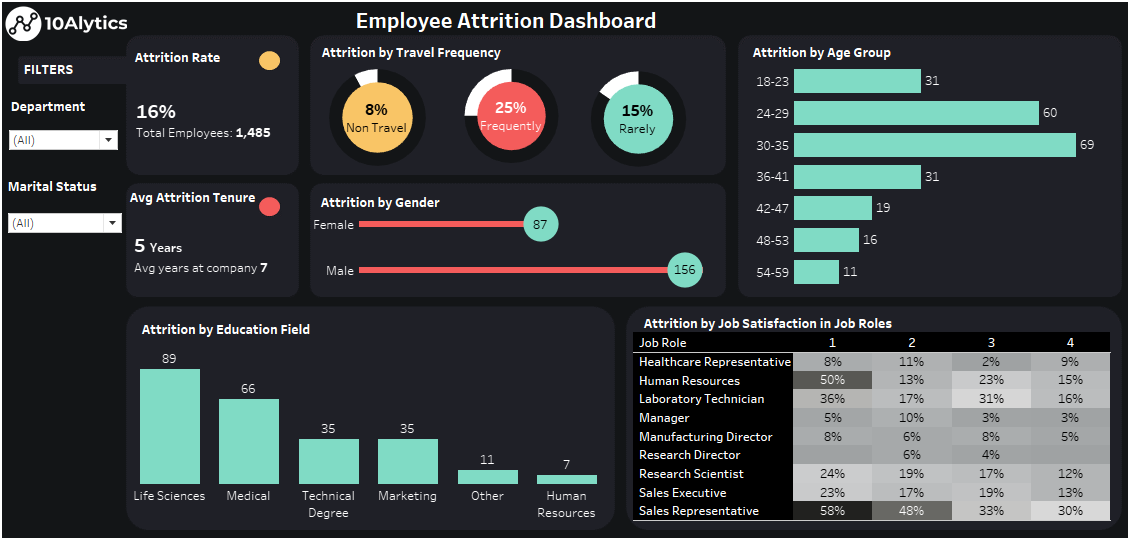

Layout of this report page (visuals, bound fields, positions):
{"tool":"tableau","page":{"name":"Dashboard 1","canvas":[1150,560],"ordinal":0},"visuals":[{"type":"image","param":"C:/Users/Ify/Documents/10Alytics/week 7/new dashboard image.png","box":[8,8,1134,544]},{"type":"text","box":[363,12,480,36]},{"type":"image","param":"C:/Users/Ify/Documents/10Alytics/week 7/10Alytics Logo White HD.png","box":[15,16,122,43]},{"type":"text","box":[329,47,213,30]},{"type":"text","box":[760,47,144,30]},{"type":"text","box":[142,52,131,30]},{"type":"text","box":[31,64,131,30]},{"type":"worksheet","title":"Attrition by Travel Frequently","mark":"Pie","rows":["Calculation_685954562910707713","Calculation_685954562910777347"],"box":[453,65,137,122]},{"type":"worksheet","title":"Attrition by Non Travel","mark":"Pie","rows":["Calculation_685954562910707713","Calculation_685954562910777347"],"box":[317,68,141,119]},{"type":"worksheet","title":"Attrition by Age Group","mark":"Automatic","rows":["Age (bin)"],"cols":["Calculation_1111544727265263619"],"box":[736,75,391,223]},{"type":"worksheet","title":"Attrition by Travel Rarely","mark":"Pie","rows":["Calculation_685954562910707713","Calculation_685954562910777347"],"box":[579,77,139,104]},{"type":"text","box":[18,101,131,30]},{"type":"worksheet","title":"Attrition Rate","mark":"Automatic","box":[142,107,166,77]},{"type":"filter","title":"Attrition Rate","param":"[federated.1krog321smivoq1f30a6x0f38wh1].[none:Department:nk]","box":[16,137,115,28]},{"type":"text","box":[15,176,131,39]},{"type":"text","box":[137,192,150,30]},{"type":"text","box":[328,197,125,30]},{"type":"worksheet","title":"Attrition by Gender","mark":"Automatic","rows":["Gender"],"cols":["Calculation_1111544727265263619","Calculation_1111544727265263619"],"box":[317,211,414,92]},{"type":"filter","title":"Attrition Rate","param":"[federated.1krog321smivoq1f30a6x0f38wh1].[none:MaritalStatus:nk]","box":[15,220,120,32]},{"type":"worksheet","title":"Avg Attrition Tenure","mark":"Automatic","box":[140,239,185,68]},{"type":"text","box":[651,318,254,30]},{"type":"text","box":[149,324,174,30]},{"type":"worksheet","title":"Attrition by Job Satisfaction","mark":"Square","rows":["JobRole"],"cols":["JobSatisfaction"],"box":[643,342,478,189]},{"type":"worksheet","title":"Attrition by Education Field","mark":"Automatic","rows":["Calculation_1111544727265263619"],"cols":["EducationField"],"box":[140,356,477,178]}]}

Visuals, with their boxes in screenshot pixels (x1, y1, x2, y2), scaled from the page's 1150x560 canvas onto the 1131x541 screenshot:
image: 8:8:1123:533
text: 357:12:829:46
image: 15:15:135:57
text: 324:45:533:74
text: 747:45:889:74
text: 140:50:268:79
text: 30:62:159:91
"Attrition by Travel Frequently" worksheet (Pie marks): 446:63:580:181
"Attrition by Non Travel" worksheet (Pie marks): 312:66:450:181
"Attrition by Age Group" worksheet: 724:72:1108:288
"Attrition by Travel Rarely" worksheet (Pie marks): 569:74:706:175
text: 18:98:147:127
"Attrition Rate" worksheet: 140:103:303:178
"Attrition Rate" filter: 16:132:129:159
text: 15:170:144:208
text: 135:185:282:214
text: 323:190:446:219
"Attrition by Gender" worksheet: 312:204:719:293
"Attrition Rate" filter: 15:213:133:243
"Avg Attrition Tenure" worksheet: 138:231:320:297
text: 640:307:890:336
text: 147:313:318:342
"Attrition by Job Satisfaction" worksheet (Square marks): 632:330:1102:513
"Attrition by Education Field" worksheet: 138:344:607:516
